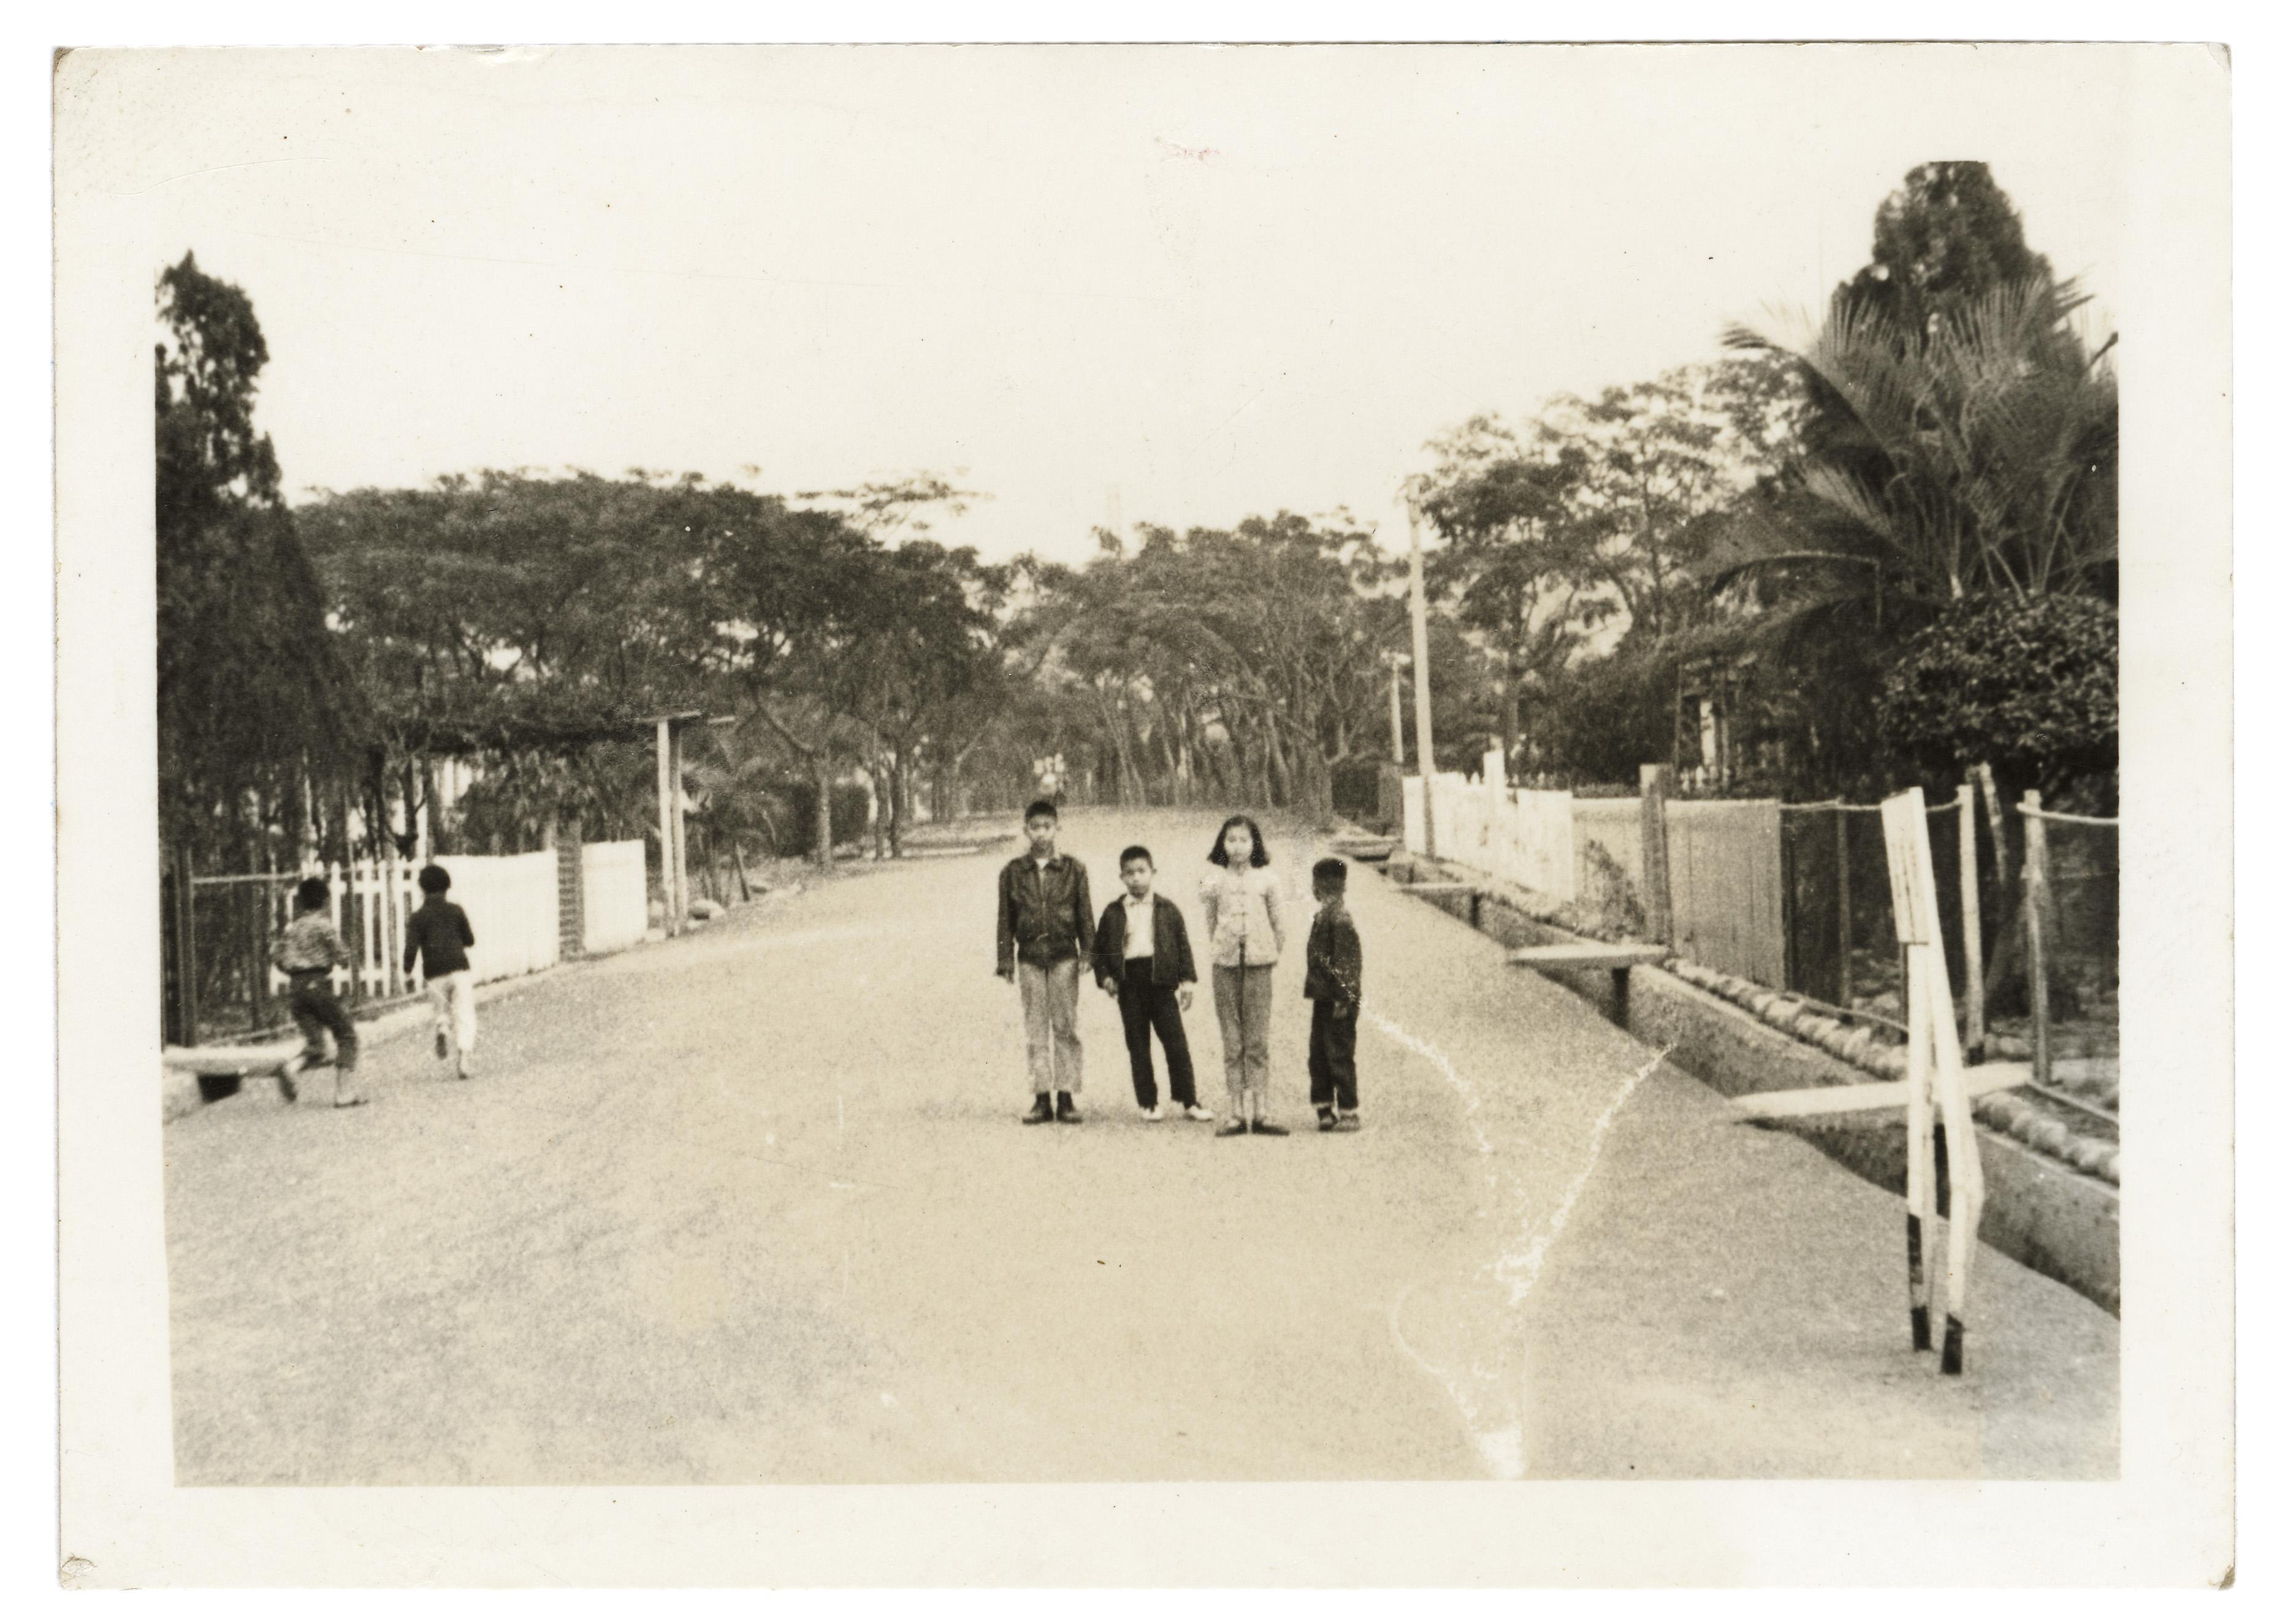people: (996, 797, 1090, 1116), (1203, 817, 1290, 1139), (1103, 852, 1196, 1120), (283, 865, 370, 1097), (406, 865, 487, 1081), (1310, 862, 1367, 1146)
